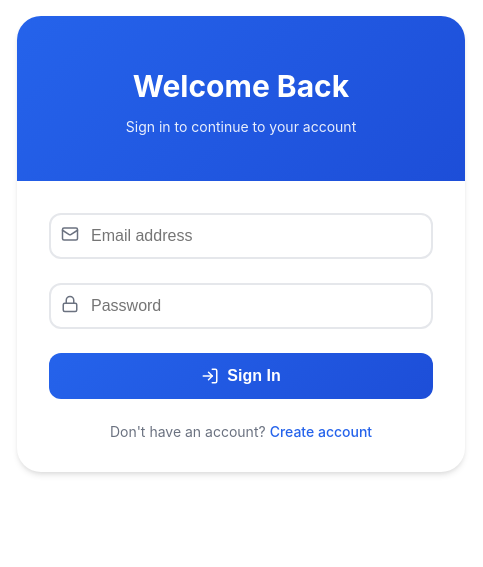
Test: Login Component Functionality › shows error message when authentication fails
This screenshot has width=483, height=567.
Type "test@example.com" into the field with placeholder "Email address".
click(241, 236); type("test@example.com")  # box top-left (49, 213), bottom-right (433, 259)
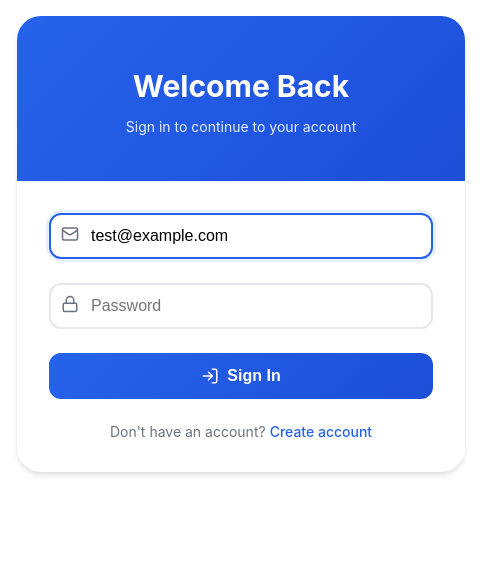
Type "Password123" into the password field with placeholder "Password".
click(241, 306); type("Password123")  # box top-left (49, 283), bottom-right (433, 329)
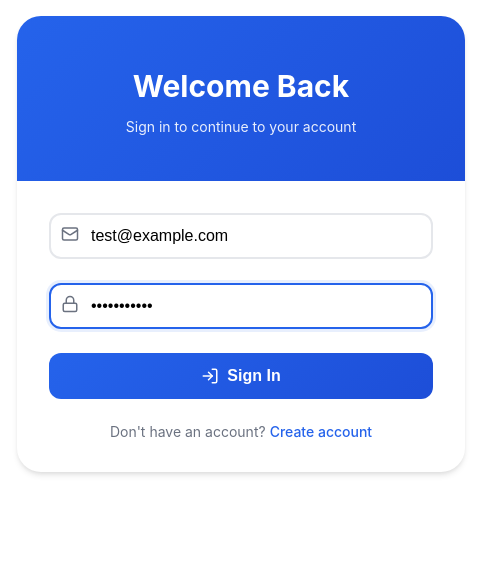
Click the button "Sign In".
click(241, 376)  # box top-left (49, 353), bottom-right (433, 399)
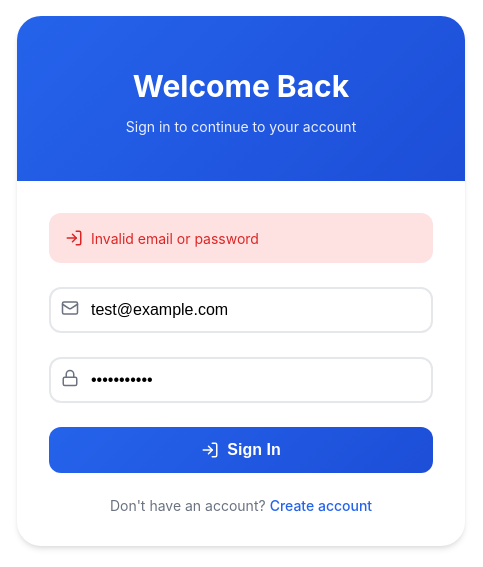
expect the text "Invalid email or password" is shown: met, box top-left (49, 213), bottom-right (433, 263)
